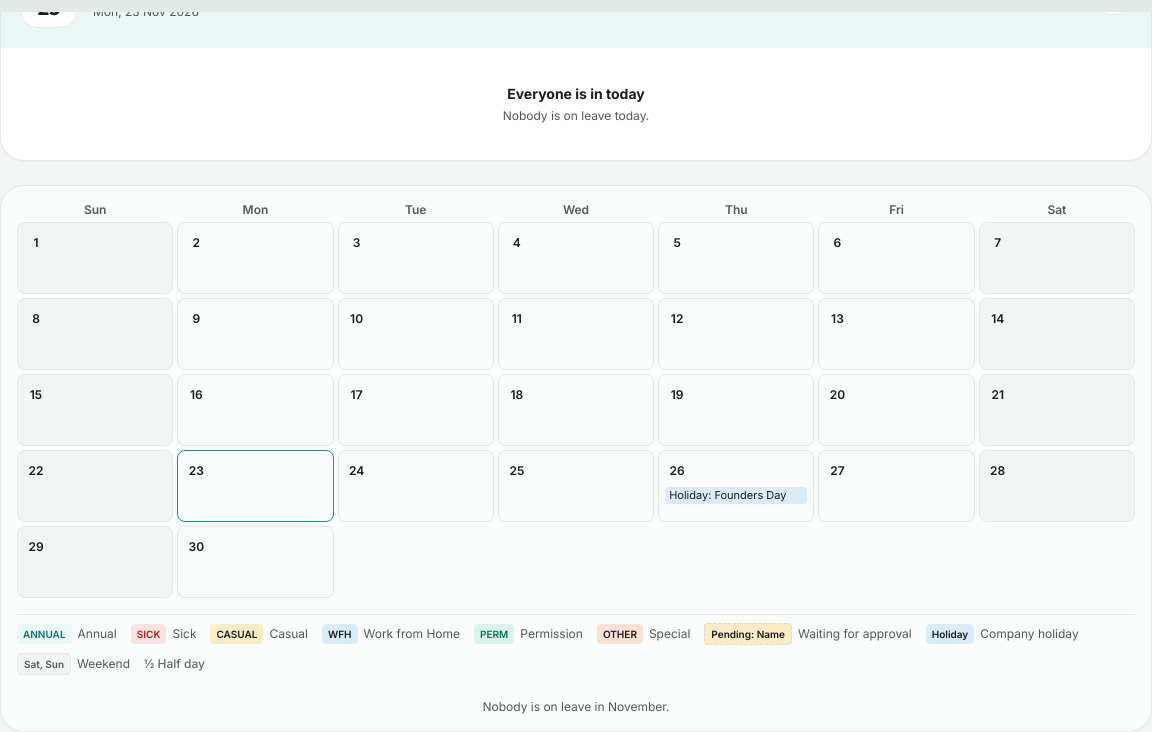
Test: LeaveCalendarView shows real leave for the month it is on › the month grid is meaningful at a glance › shows the holiday in the details of its day
(page scrolled)
Click the button named "Details for Thu, 26 Nov 2026". click: (677, 471)
box: [665, 459, 689, 483]
(page scrolled)
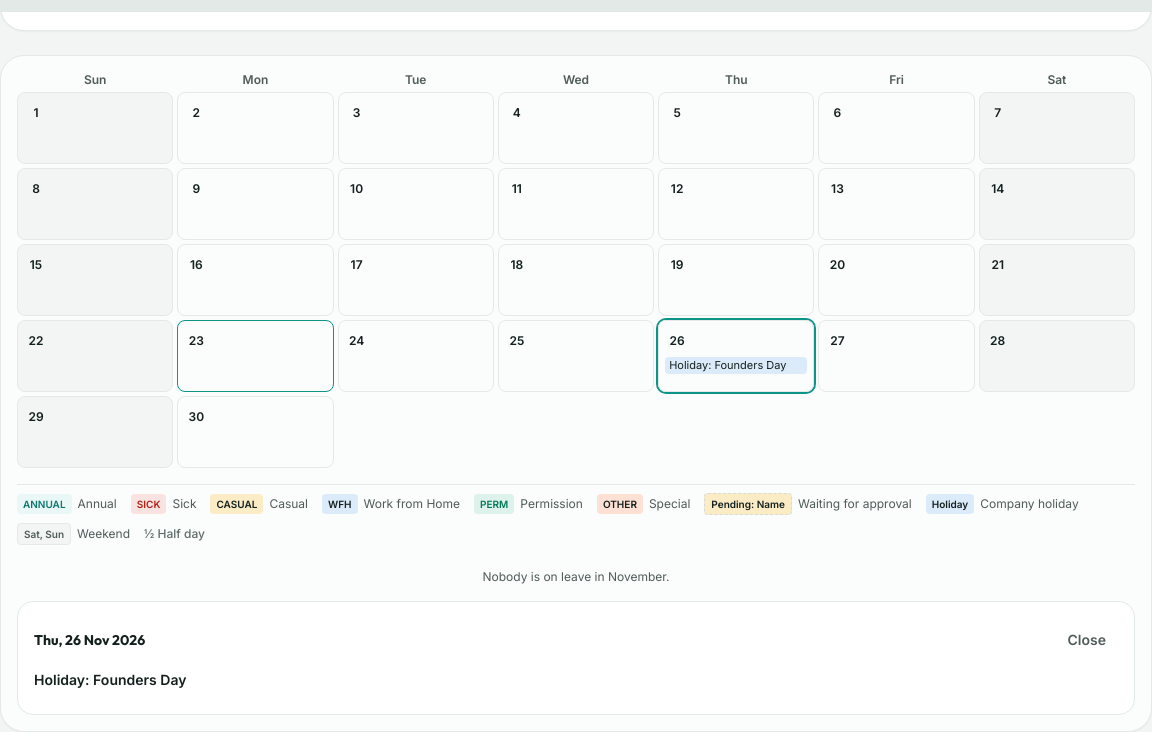
Expected: the element with test id "leave-day-detail" does not show "Nobody is on leave this day.", [17, 601, 1135, 715]
Expected: the element with test id "leave-day-detail" shows "Holiday: Founders Day", [17, 601, 1135, 715]
